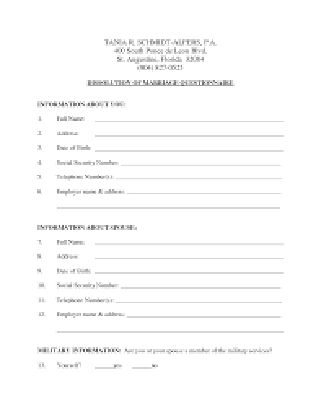textline: (54, 320, 285, 334), (55, 199, 282, 210), (91, 127, 285, 139), (91, 140, 285, 152), (91, 113, 285, 124), (91, 235, 285, 246), (91, 248, 285, 259), (91, 263, 285, 274), (119, 277, 282, 289), (113, 292, 284, 303), (117, 157, 282, 168), (116, 168, 281, 179), (124, 307, 284, 318), (126, 184, 284, 194), (91, 361, 119, 370), (127, 361, 155, 370)
